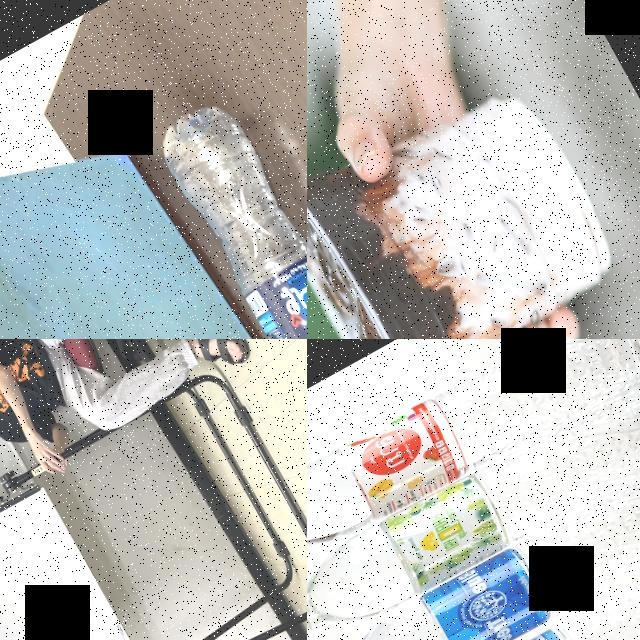bottle: (307, 353, 640, 640), (307, 339, 640, 585), (307, 428, 640, 640), (134, 70, 307, 339), (342, 513, 640, 640)
cup: (307, 39, 640, 339)
